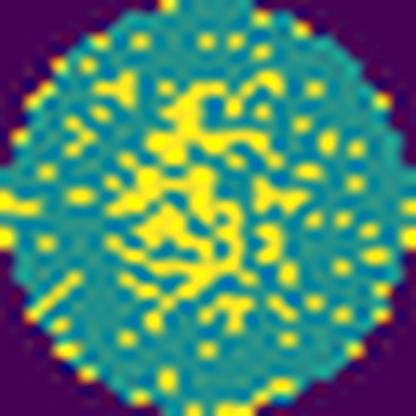Center: (102, 68, 312, 344)
